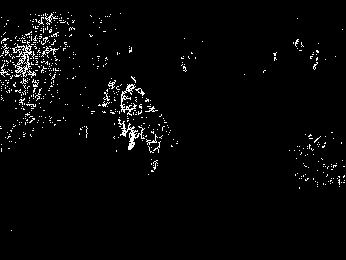person: (140, 98, 177, 176), (121, 76, 144, 154), (101, 76, 124, 144)
